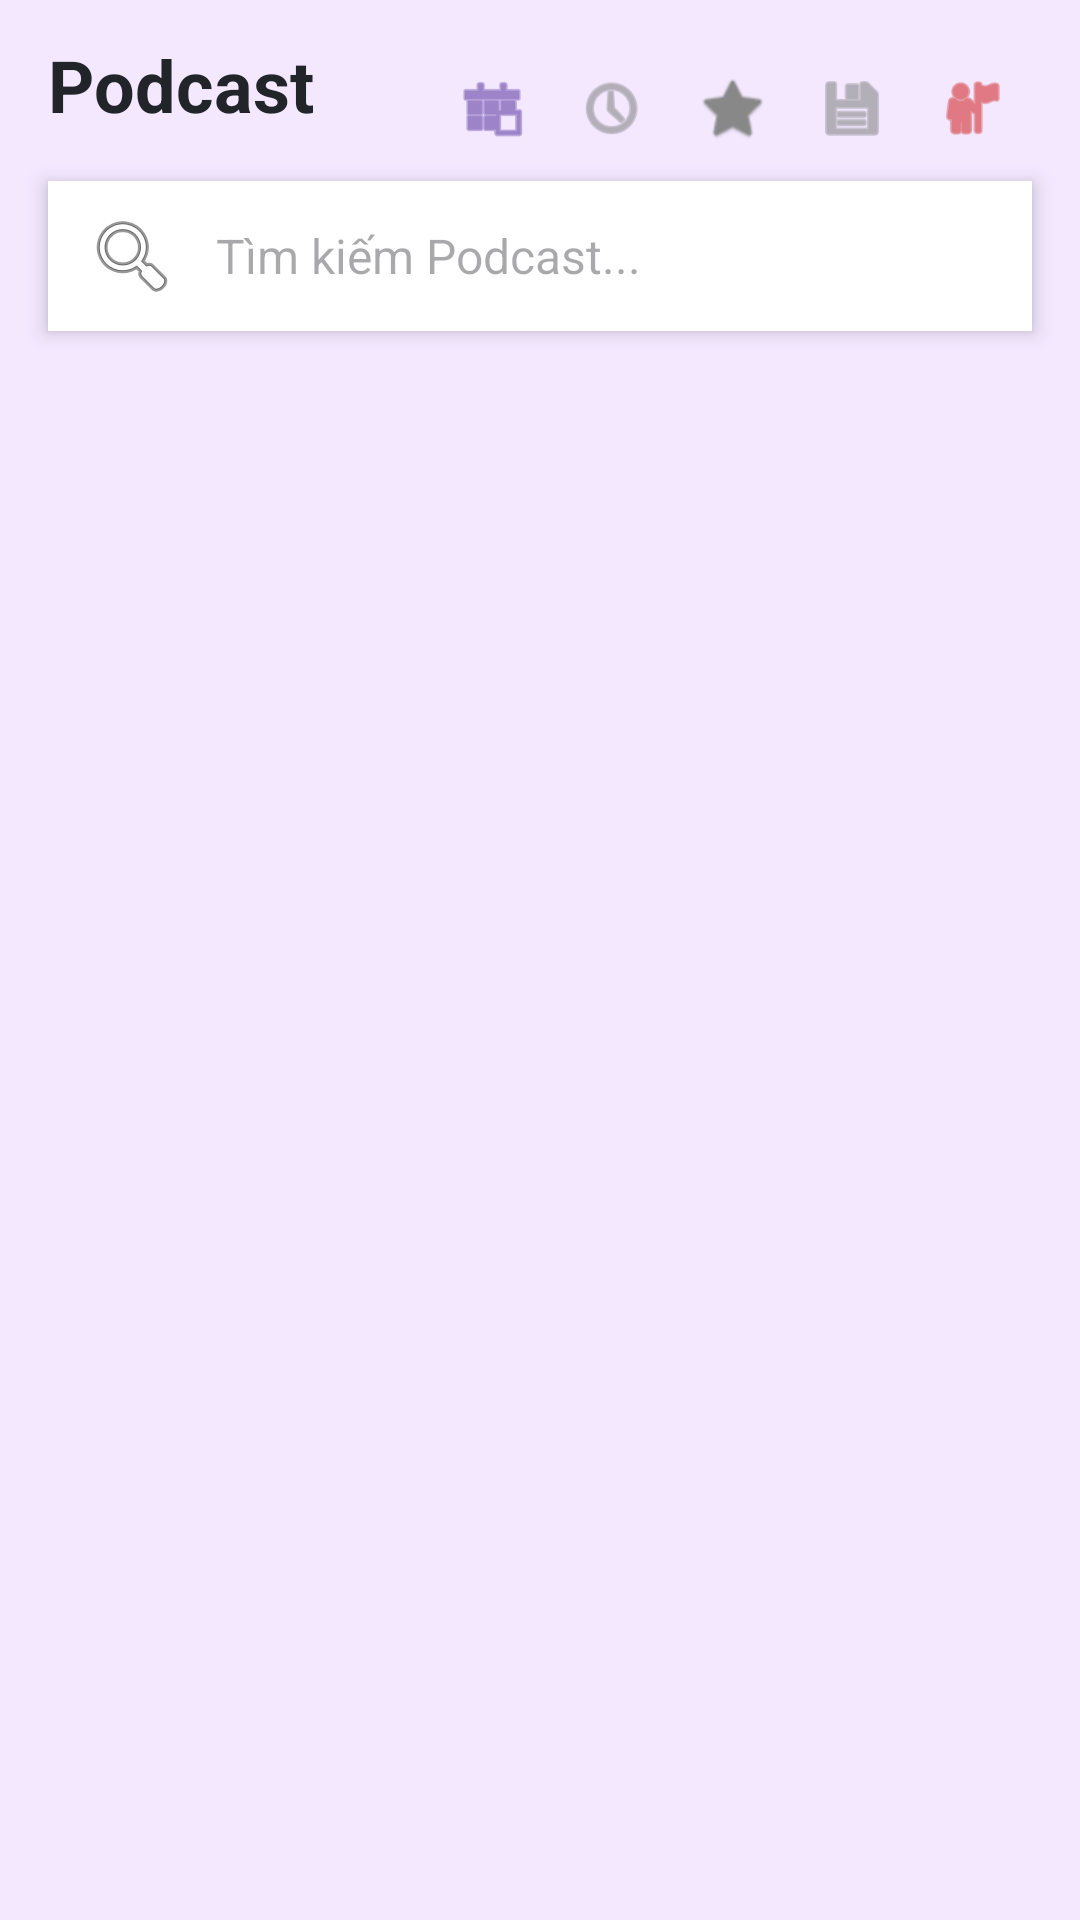

Icons on this 1080 × 1920 Android screen, each with its box as {"x1": x1, "y1": y1, "x2": x2, "y2": y2}:
myplaces: {"x1": 946, "y1": 81, "x2": 1000, "y2": 135}
recent history: {"x1": 586, "y1": 82, "x2": 638, "y2": 134}
save: {"x1": 825, "y1": 81, "x2": 879, "y2": 136}
star: {"x1": 703, "y1": 80, "x2": 762, "y2": 137}
today: {"x1": 463, "y1": 82, "x2": 522, "y2": 136}
